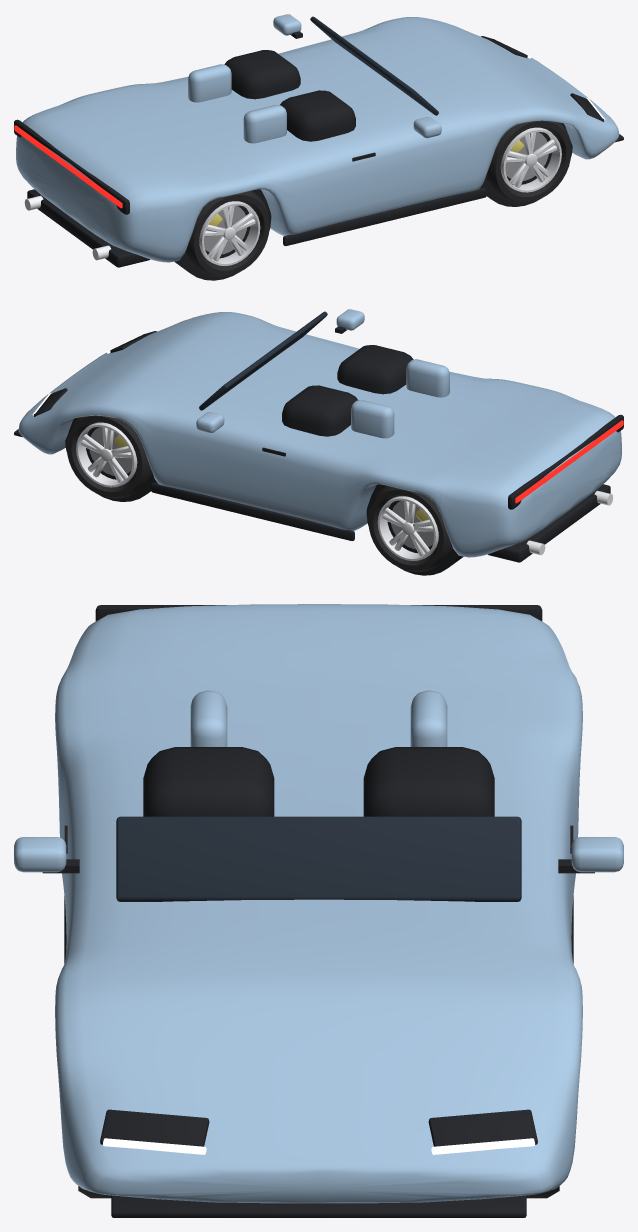
File: ituri.glb
3 views of the same model, one above another, from view 1: azimuth 30°, elevation 25°; view 2: azimuth 150°, elevation 25°; view 3: azimuth 270°, elevation 25° (orthographic). The views are drawn at different scales.
Parts seen in each view (by area): view 1: car_paint, car_trim, wheel_FR, wheel_RR, car_glass, car_lightR, car_chrome; view 2: car_paint, car_trim, wheel_FL, wheel_RL, car_glass, car_lightR, car_chrome; view 3: car_paint, car_glass, car_trim, car_lightF.
Part boxes in pixels (x1,y1,x2,y2): car_paint: (16, 14, 619, 262); car_trim: (14, 31, 623, 280); wheel_FR: (485, 120, 571, 203); wheel_RR: (185, 190, 269, 276); car_glass: (310, 16, 438, 115); car_lightR: (14, 125, 122, 208); car_chrome: (24, 195, 110, 260); car_paint: (18, 309, 621, 557); car_trim: (14, 326, 623, 575); wheel_FL: (66, 415, 152, 498); wheel_RL: (368, 485, 452, 571); car_glass: (199, 311, 327, 410); car_lightR: (515, 420, 623, 503); car_chrome: (526, 490, 613, 555); car_paint: (14, 604, 623, 1203); car_glass: (116, 816, 521, 901); car_trim: (42, 605, 594, 1217); car_lightF: (103, 1138, 535, 1154).
Size of the model in its own units: 4.47 by 1.18 by 2.33.
